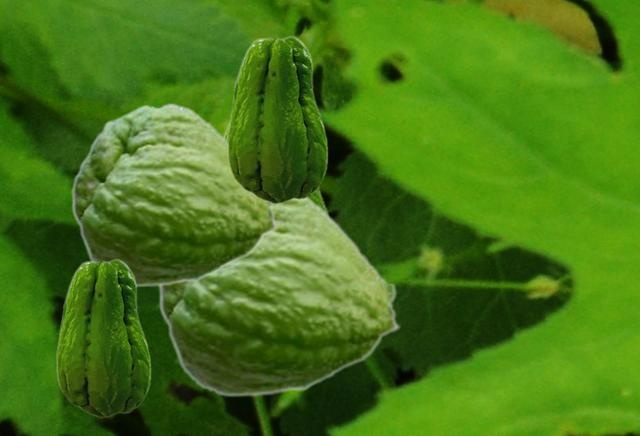sayote: (158, 195, 401, 397), (71, 102, 279, 287), (227, 35, 327, 203), (56, 258, 150, 417), (223, 121, 331, 215)
